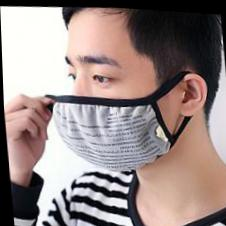WRONG: (44, 36, 174, 175)
